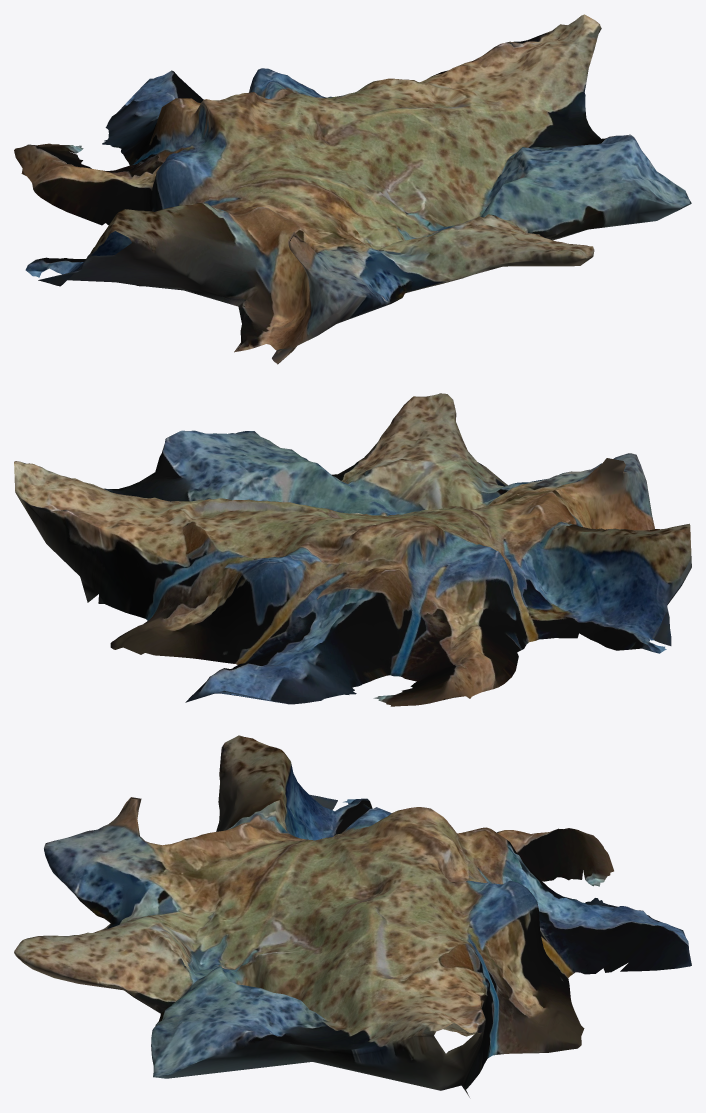
File: leaf-11.glb
3 views of the same model, one above another, from view 1: azimuth 30°, elevation 25°; view 2: azimuth 150°, elevation 25°; view 3: azimuth 270°, elevation 25° (orthographic). The views are drawn at different scales.
Visible parts, largest first — view 1: Mesh; view 2: Mesh; view 3: Mesh.
Boxes of the visible parts, box(x1,y1,x2,y2) form: Mesh: box(14, 14, 691, 364); Mesh: box(14, 393, 691, 706); Mesh: box(14, 735, 691, 1097).
Size of the model in its own units: 0.175 by 0.0361 by 0.1639.
1 material, 1 textured.
